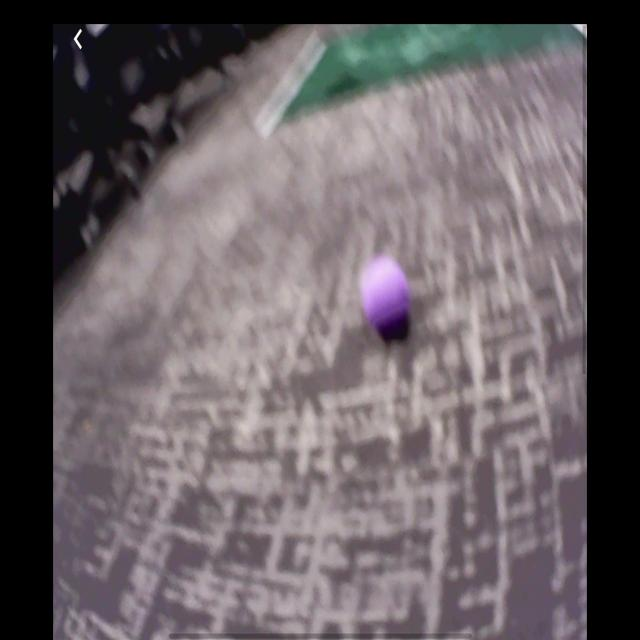ball: (363, 263, 409, 337)
